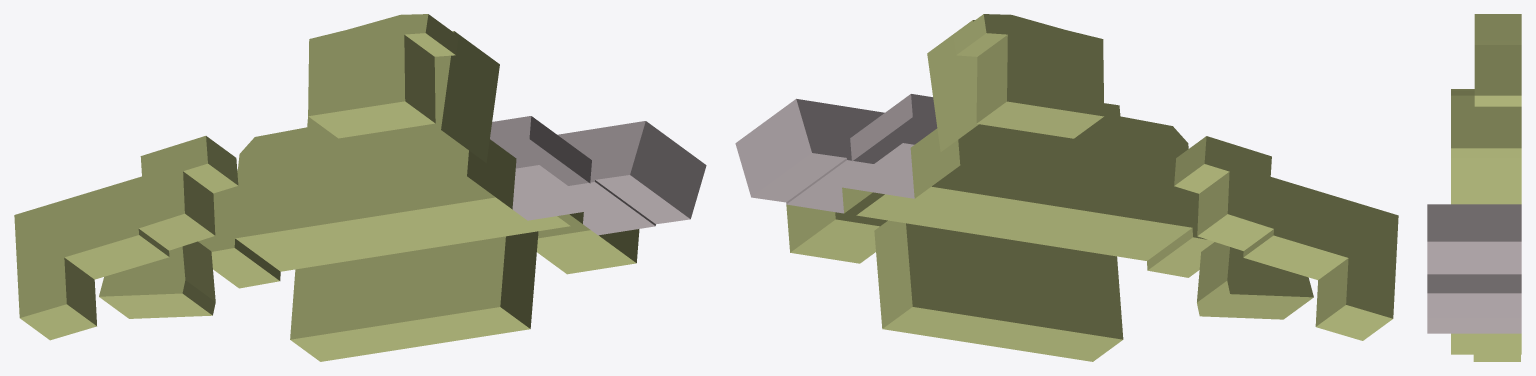
The picture shows the model from 3 angles, left to right: view 1: azimuth 30°, elevation 25°; view 2: azimuth 150°, elevation 25°; view 3: azimuth 270°, elevation 25°; orthographic projection. The views are drawn at different scales.
Visible parts, largest first — view 1: 0_3_0_1_2_2_2_3; view 2: 0_3_0_1_2_2_2_3; view 3: 0_3_0_1_2_2_2_3.
Part boxes in pixels (x1,y1,x2,y2): 0_3_0_1_2_2_2_3: [14, 14, 706, 361]; 0_3_0_1_2_2_2_3: [735, 14, 1398, 361]; 0_3_0_1_2_2_2_3: [1427, 14, 1521, 361].
Bounding box in the file's own units: 72.03 × 34.45 × 12.
